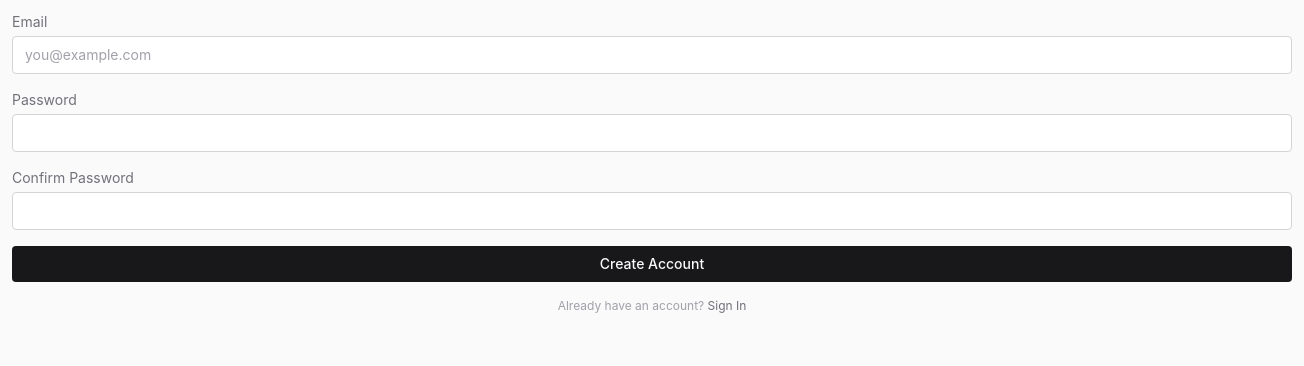
Test case: RegisterForm › rejects mismatched passwords
In the field labelled "Email": (652, 55) [12,36,1292,74], type "me@example.com"
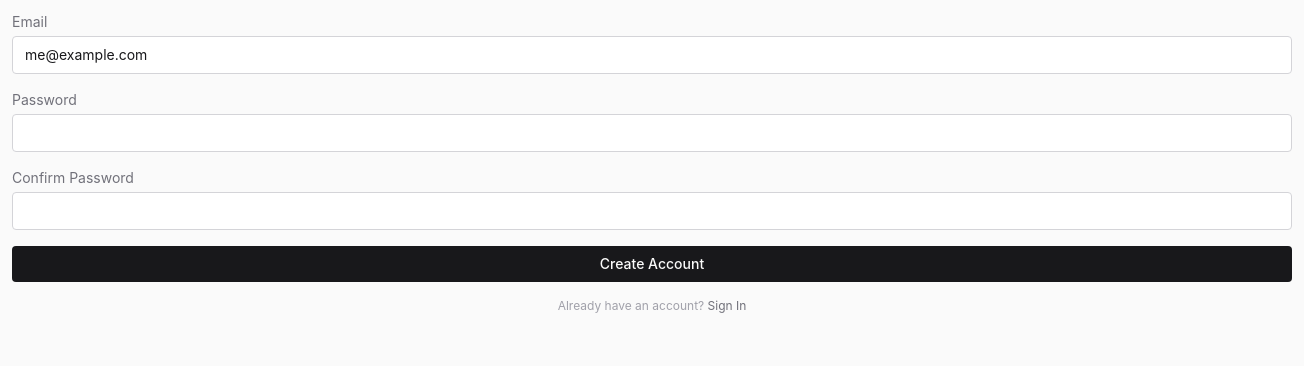
In the password field labelled "Password": (652, 133) [12,114,1292,152], type "password1"
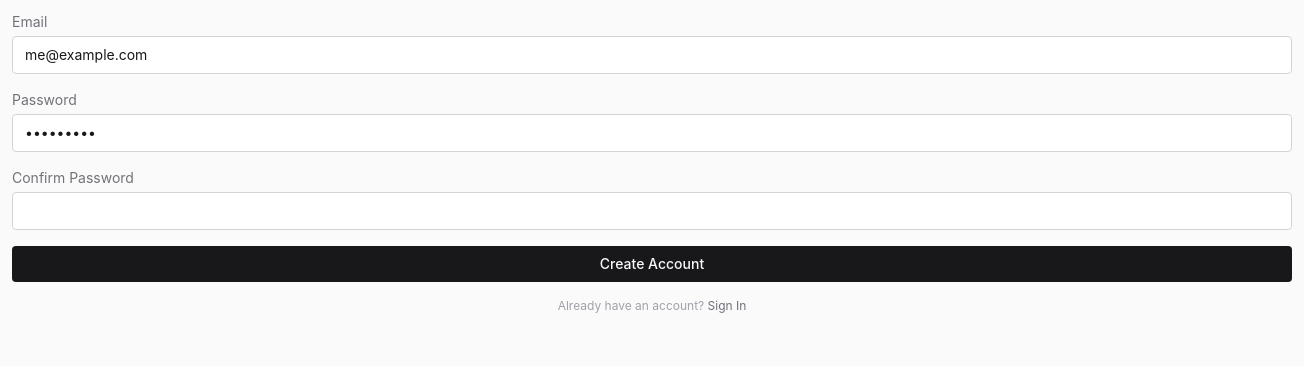
In the password field labelled "Confirm Password": (652, 211) [12,192,1292,230], type "password2"
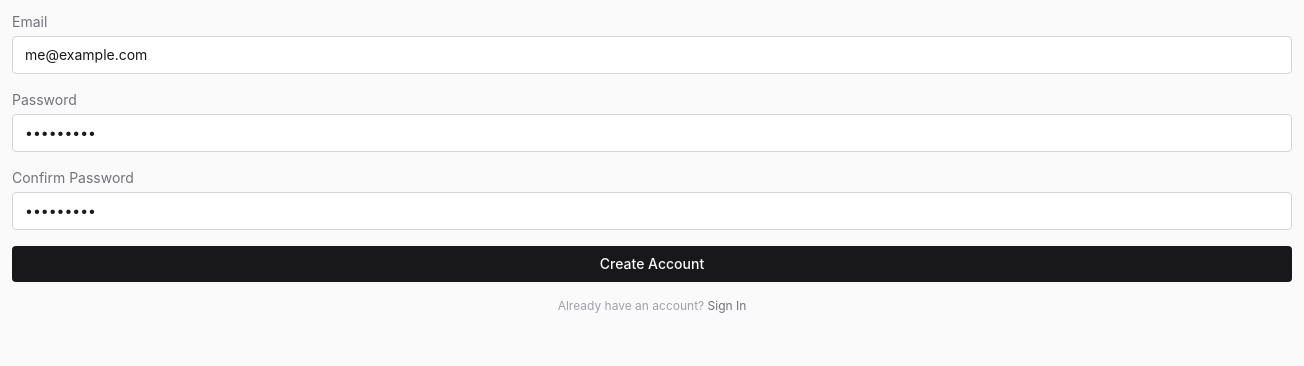
Click the button "Create Account": (652, 264) [12,246,1292,282]
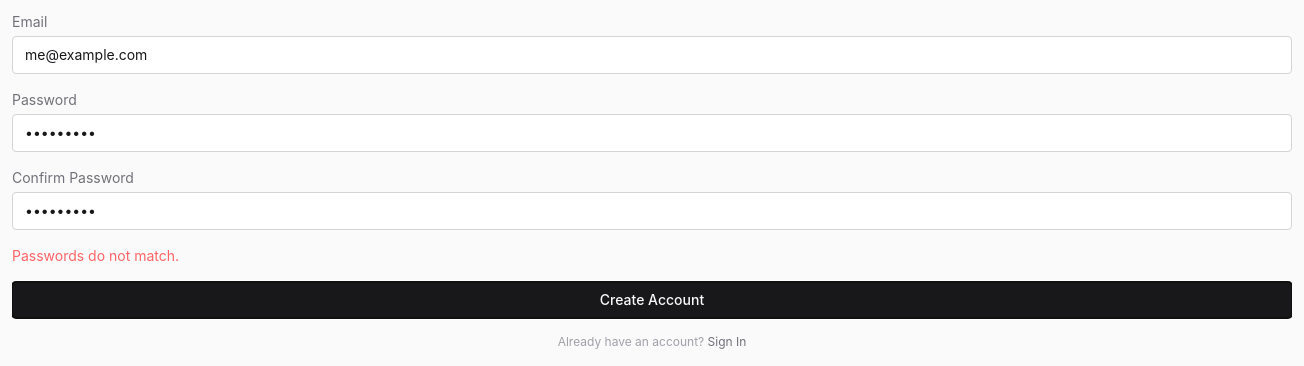
Now the text "Passwords do not match." is shown, box [12,247,179,264]
